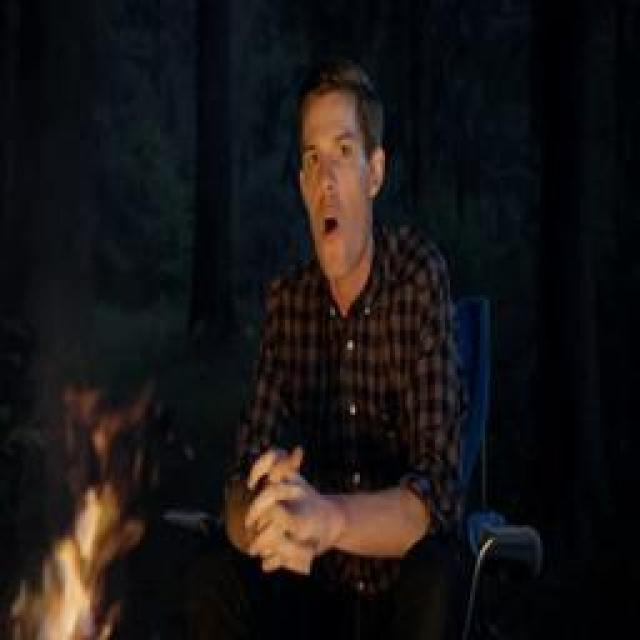Fire: (12, 482, 142, 640)
